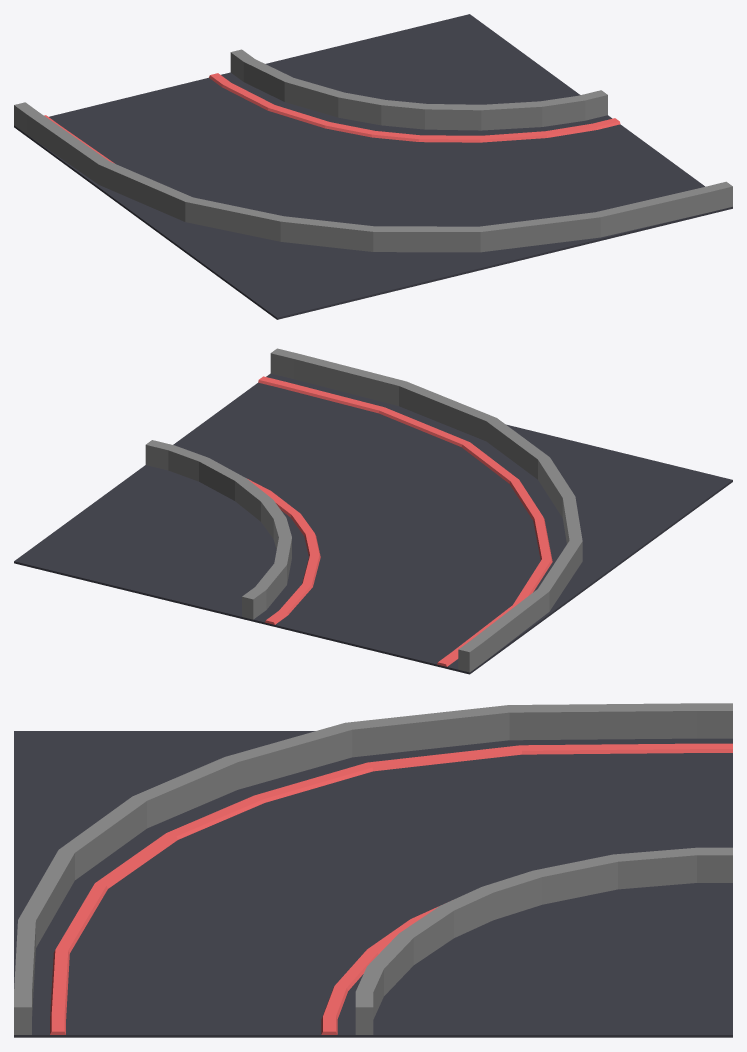
Rendered from kartkids_base_trk_530_trn_90_r_4x4.glb.
3 renders of one model, top to bottom at view 1: azimuth 30°, elevation 25°; view 2: azimuth 150°, elevation 25°; view 3: azimuth 270°, elevation 25°, orthographic. The views are drawn at different scales.
Visible parts, largest first — view 1: kartkids_base_trk_530_trn_90_r_4x4, kartkids_base_trk_530_trn_90_r_4x4.001, kartkids_base_trk_530_trn_90_r_4x4.003, kartkids_base_trk_530_trn_90_r_4x4.002; view 2: kartkids_base_trk_530_trn_90_r_4x4, kartkids_base_trk_530_trn_90_r_4x4.001, kartkids_base_trk_530_trn_90_r_4x4.003, kartkids_base_trk_530_trn_90_r_4x4.002; view 3: kartkids_base_trk_530_trn_90_r_4x4, kartkids_base_trk_530_trn_90_r_4x4.001, kartkids_base_trk_530_trn_90_r_4x4.003, kartkids_base_trk_530_trn_90_r_4x4.002.
Part boxes in pixels (x1=…): kartkids_base_trk_530_trn_90_r_4x4: x1=14, y1=14, x2=732, y2=319; kartkids_base_trk_530_trn_90_r_4x4.001: x1=14, y1=102, x2=732, y2=252; kartkids_base_trk_530_trn_90_r_4x4.003: x1=230, y1=49, x2=607, y2=130; kartkids_base_trk_530_trn_90_r_4x4.002: x1=44, y1=73, x2=620, y2=163; kartkids_base_trk_530_trn_90_r_4x4: x1=14, y1=373, x2=732, y2=674; kartkids_base_trk_530_trn_90_r_4x4.001: x1=270, y1=348, x2=582, y2=672; kartkids_base_trk_530_trn_90_r_4x4.003: x1=145, y1=440, x2=291, y2=619; kartkids_base_trk_530_trn_90_r_4x4.002: x1=246, y1=376, x2=552, y2=666; kartkids_base_trk_530_trn_90_r_4x4: x1=14, y1=731, x2=732, y2=1037; kartkids_base_trk_530_trn_90_r_4x4.001: x1=14, y1=703, x2=732, y2=1034; kartkids_base_trk_530_trn_90_r_4x4.003: x1=355, y1=847, x2=732, y2=1034; kartkids_base_trk_530_trn_90_r_4x4.002: x1=50, y1=743, x2=732, y2=1034.
Size of the model in its own units: 20 by 0.9339 by 20.
